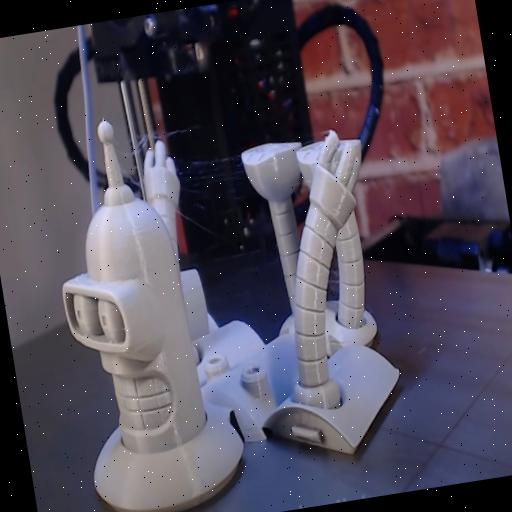stringing: (168, 142, 268, 235), (112, 128, 162, 184)
